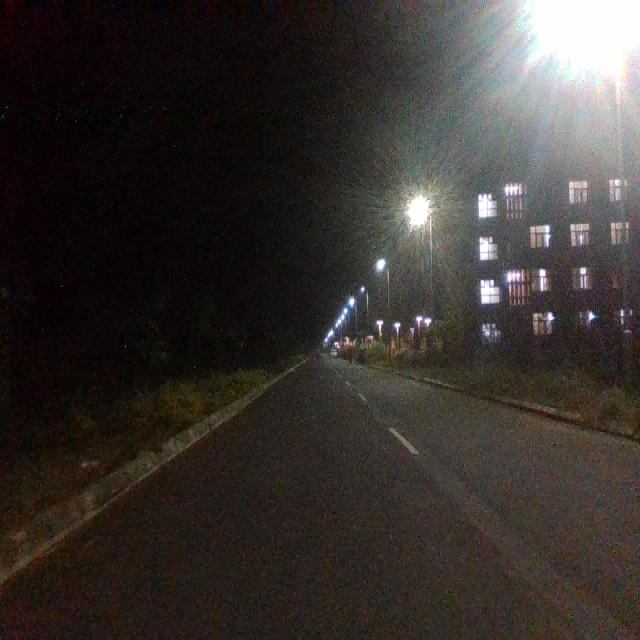lane: (0, 364, 585, 640)
